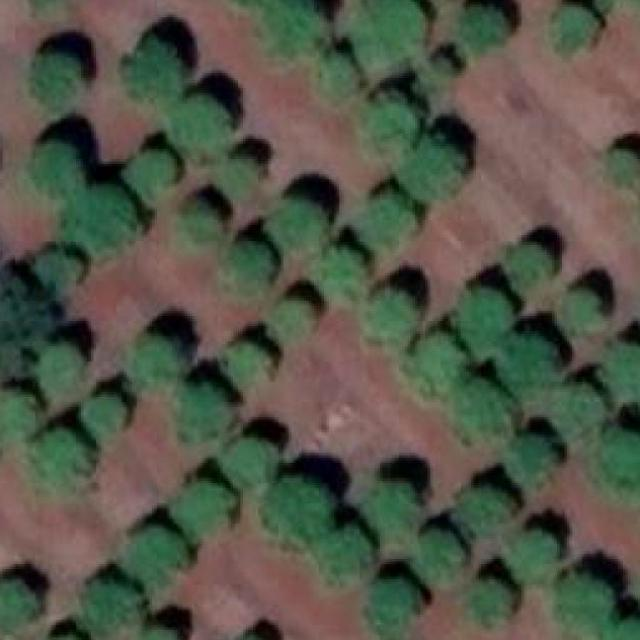Tree: (258, 475, 334, 544), (68, 184, 144, 250), (452, 380, 518, 450), (0, 268, 49, 362), (356, 0, 426, 63), (32, 425, 96, 491), (124, 528, 190, 590), (498, 331, 559, 395), (367, 577, 428, 640), (27, 138, 88, 200), (559, 574, 618, 635), (167, 481, 233, 535), (402, 139, 463, 197), (124, 38, 179, 102), (409, 331, 463, 395), (461, 288, 511, 357), (260, 0, 321, 53), (169, 93, 228, 147), (603, 344, 640, 430), (122, 152, 180, 205), (362, 289, 420, 342), (179, 382, 233, 435), (83, 582, 144, 628), (367, 481, 420, 532), (127, 338, 182, 387), (552, 382, 607, 430), (417, 527, 463, 582), (223, 438, 278, 483), (324, 526, 375, 574), (503, 434, 552, 483), (270, 194, 319, 243), (451, 488, 509, 529), (32, 344, 86, 388), (506, 529, 555, 577), (364, 96, 417, 140), (461, 5, 509, 51), (30, 56, 79, 101), (466, 576, 511, 625), (223, 240, 268, 289), (552, 5, 597, 51), (601, 431, 640, 484), (0, 579, 41, 628), (176, 198, 220, 243), (367, 192, 412, 236), (267, 296, 311, 339), (223, 341, 271, 380), (511, 245, 552, 289), (319, 245, 359, 289), (81, 397, 130, 430), (0, 394, 34, 435), (566, 289, 600, 329), (35, 255, 81, 284), (220, 159, 255, 194), (321, 53, 351, 91), (611, 148, 640, 184), (605, 616, 640, 640), (136, 627, 179, 640)
